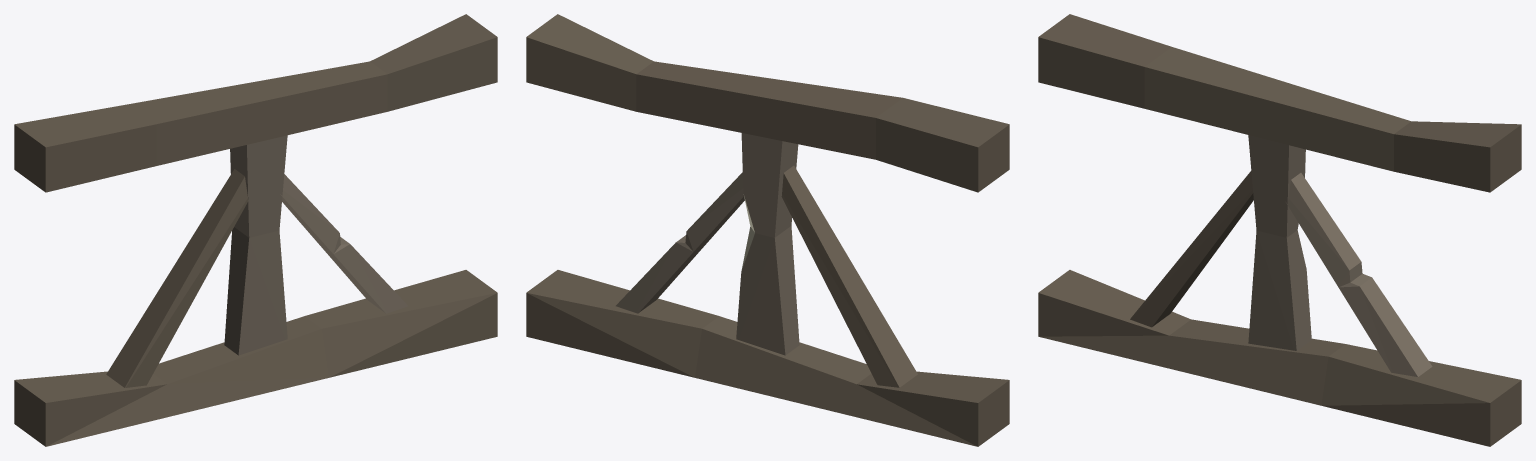
The model's file is _FENSE_LINE_01.fbx.
3 renders of one model, left to right at view 1: azimuth 30°, elevation 25°; view 2: azimuth 150°, elevation 25°; view 3: azimuth 330°, elevation 25°, orthographic.
Parts seen in each view (by area): view 1: FENSE_LINE_01; view 2: FENSE_LINE_01; view 3: FENSE_LINE_01.
Boxes of the visible parts, left/top/right/bottom form: FENSE_LINE_01: left=14, top=14, right=497, bottom=446; FENSE_LINE_01: left=526, top=14, right=1009, bottom=446; FENSE_LINE_01: left=1038, top=14, right=1521, bottom=446.
Size of the model in its own units: 200 by 127 by 25.91.
